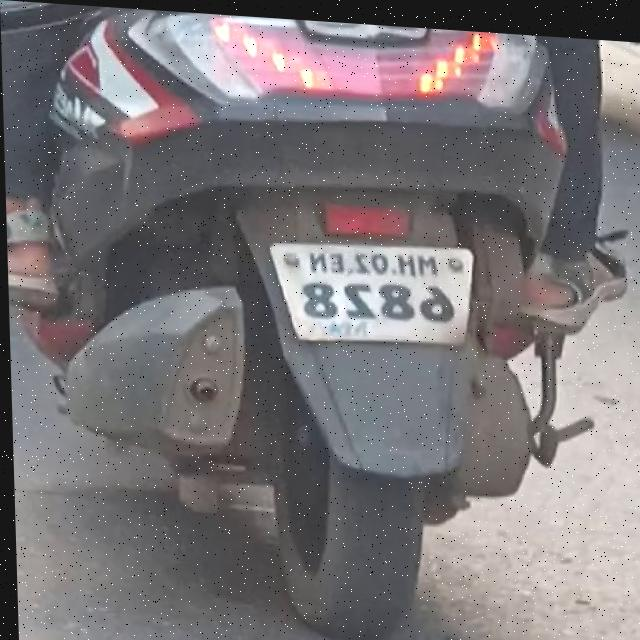plate: (268, 228, 477, 348)
